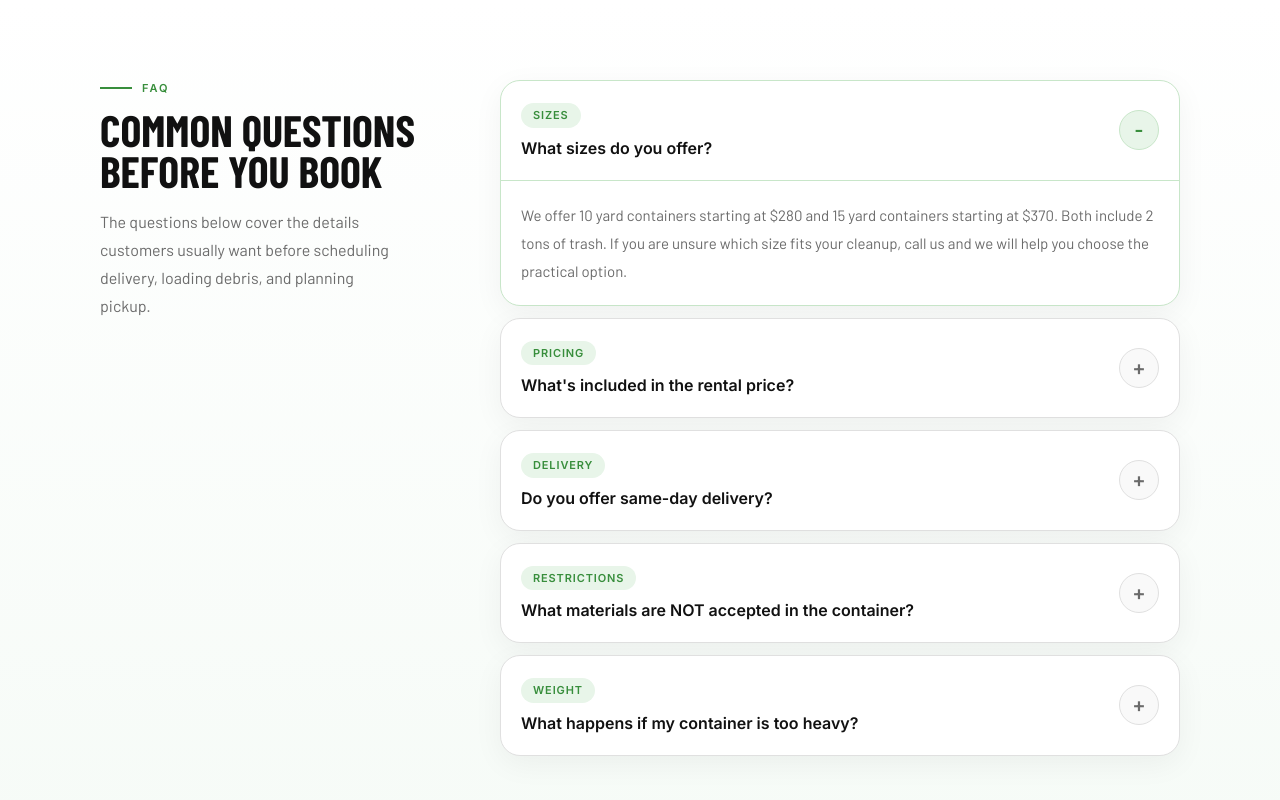
Test: FAQ › switches the open panel when another question is selected
Click the button "Delivery Do you offer same-day delivery? +". click: (563,465)
box: [501,431,1179,530]
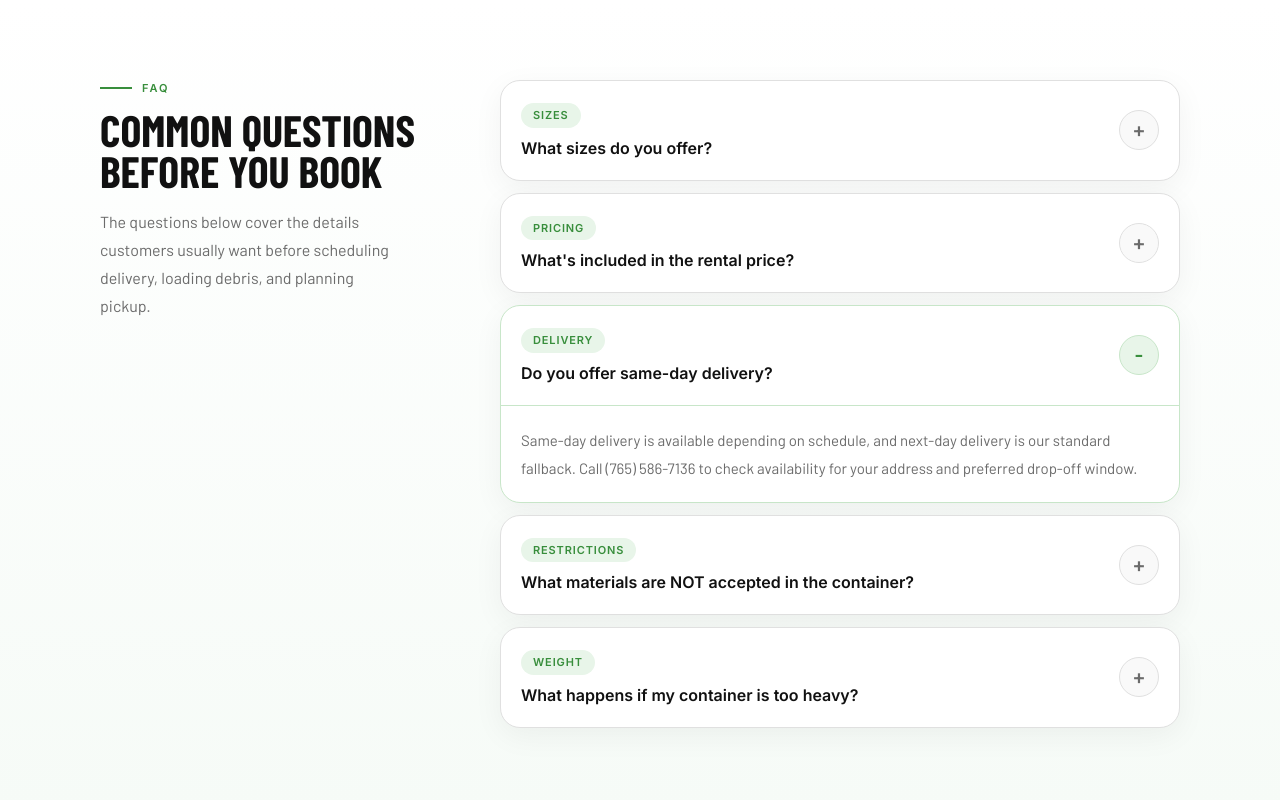
expect the button "Sizes What sizes do you offer? +" is collapsed: met, box [501,81,1179,180]
expect the button "Delivery Do you offer same-day delivery? -" is expanded: met, box [501,306,1179,404]
expect the text "next-day delivery is our standard fallback" is shown: met, box [521,430,1138,476]
